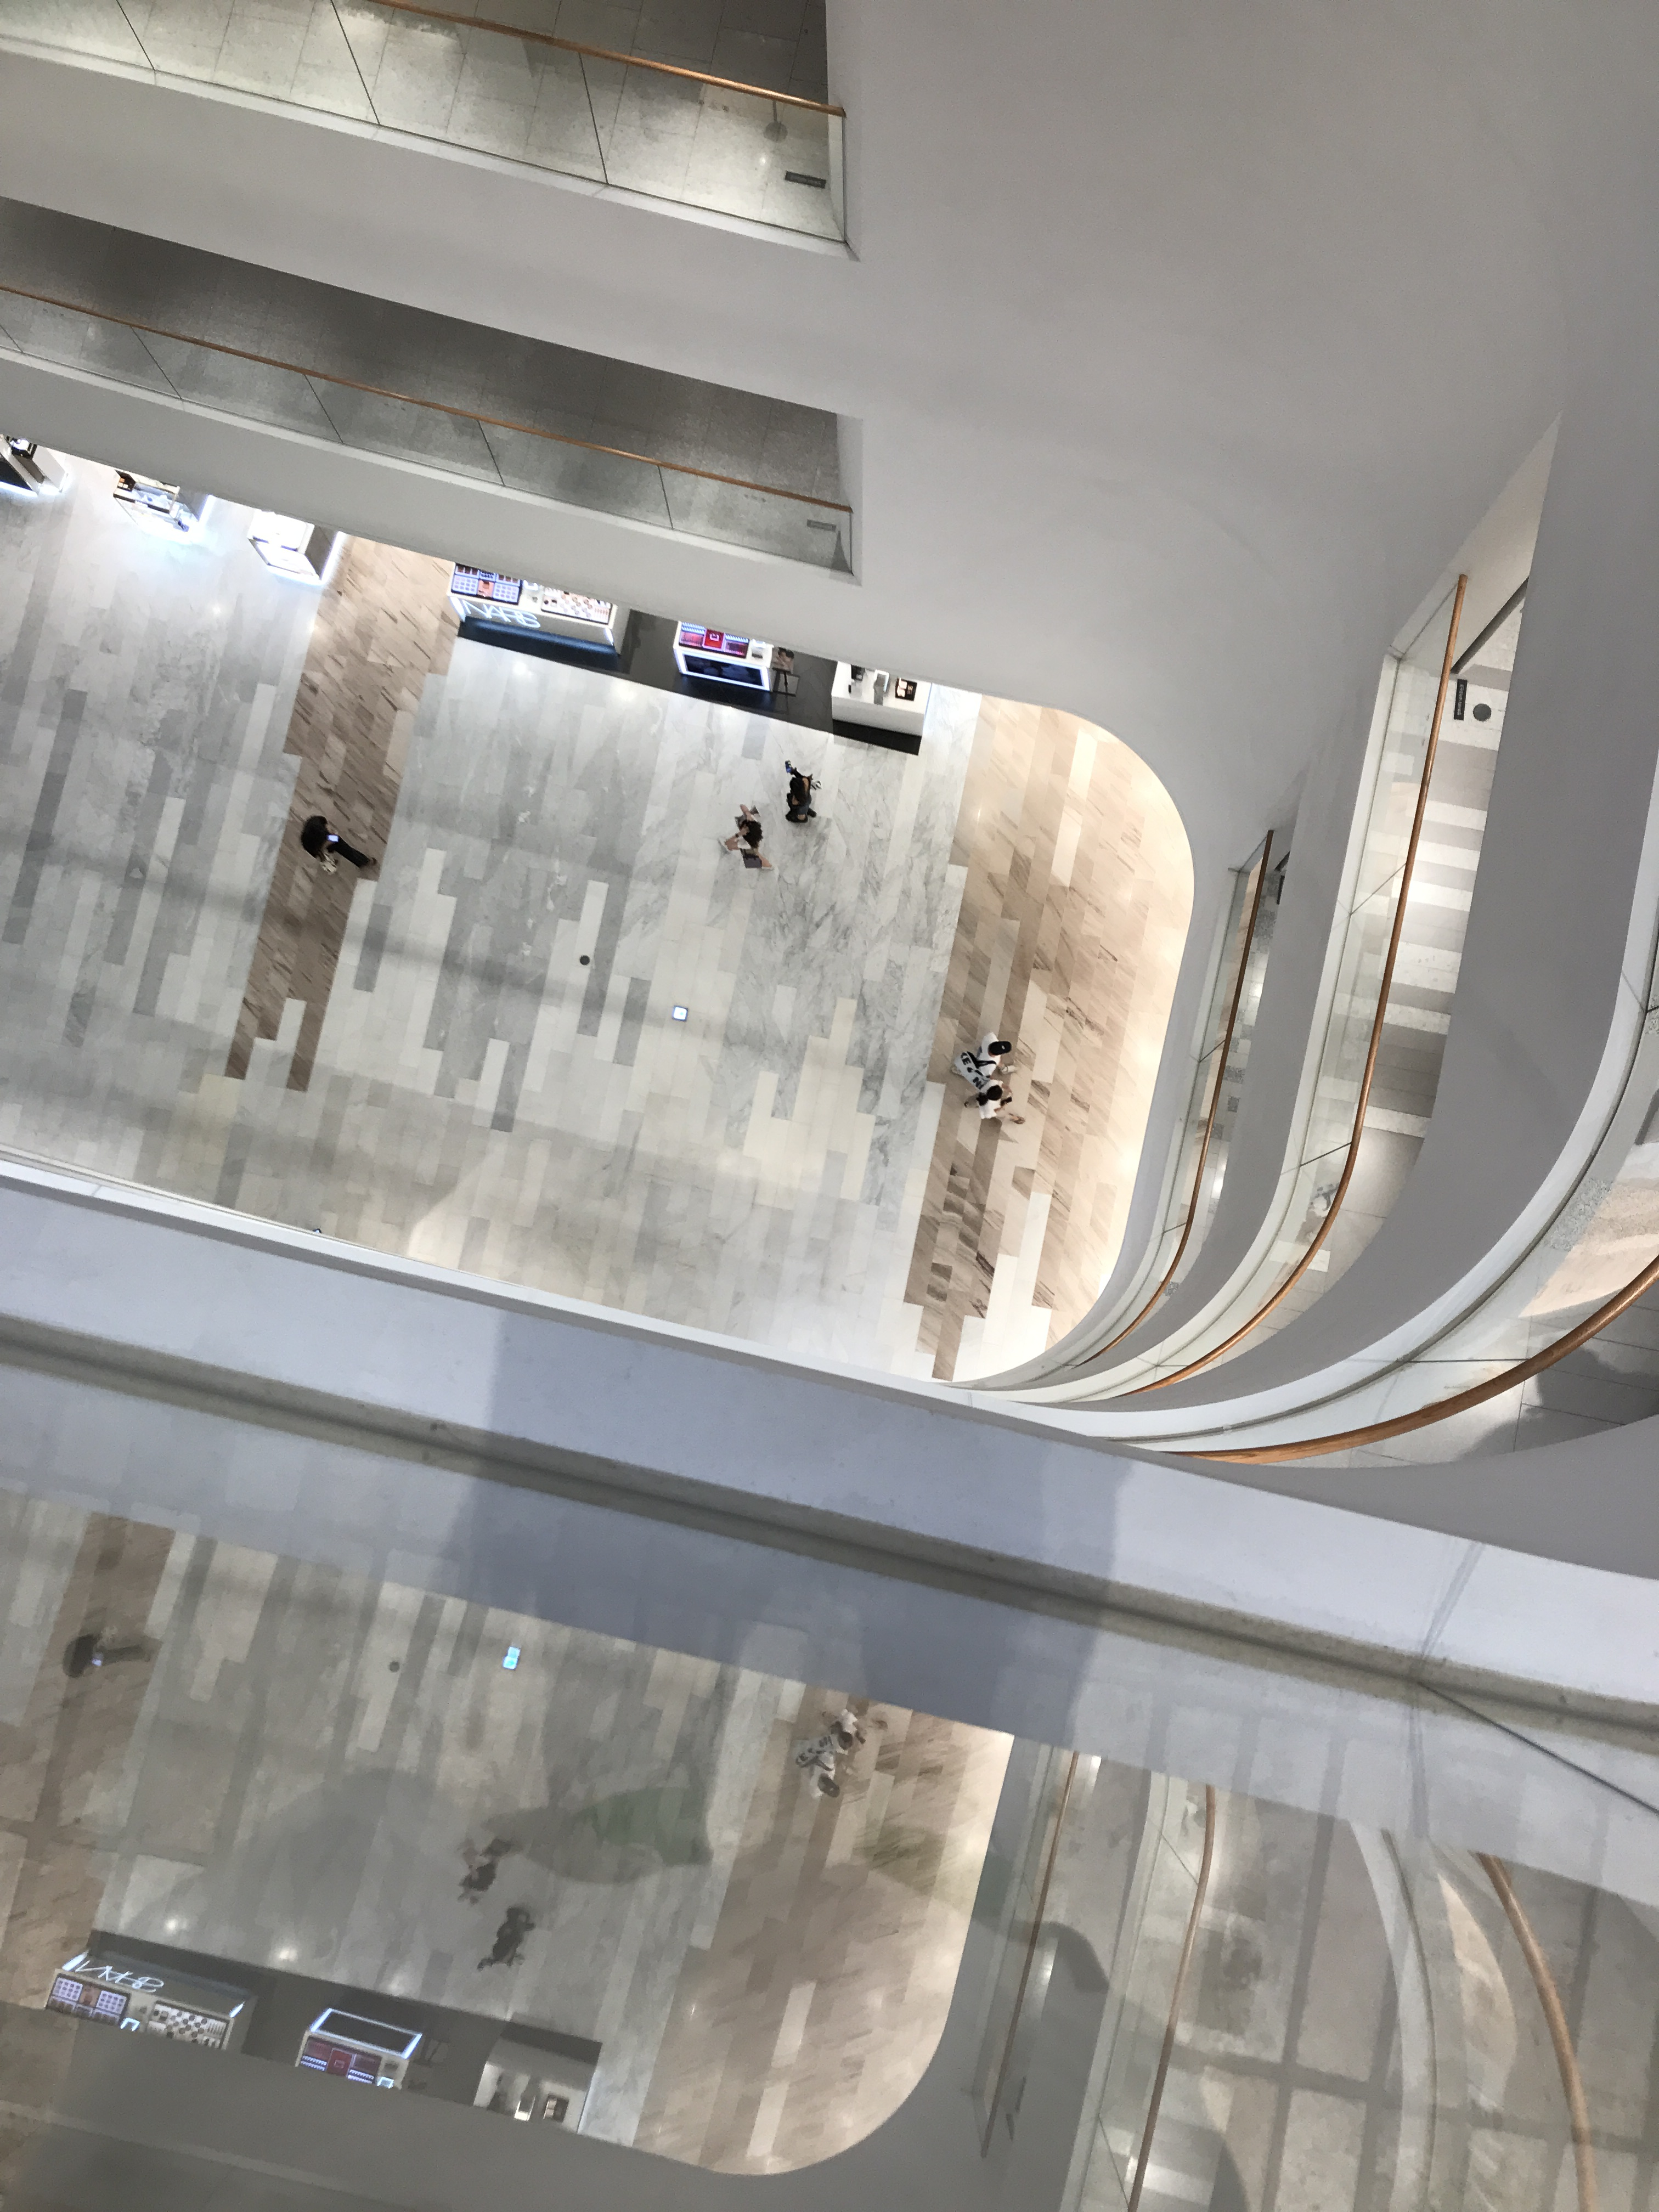person: (296, 815, 376, 877), (718, 802, 778, 874), (951, 1032, 1018, 1085), (962, 1079, 1025, 1128), (780, 759, 821, 826)
